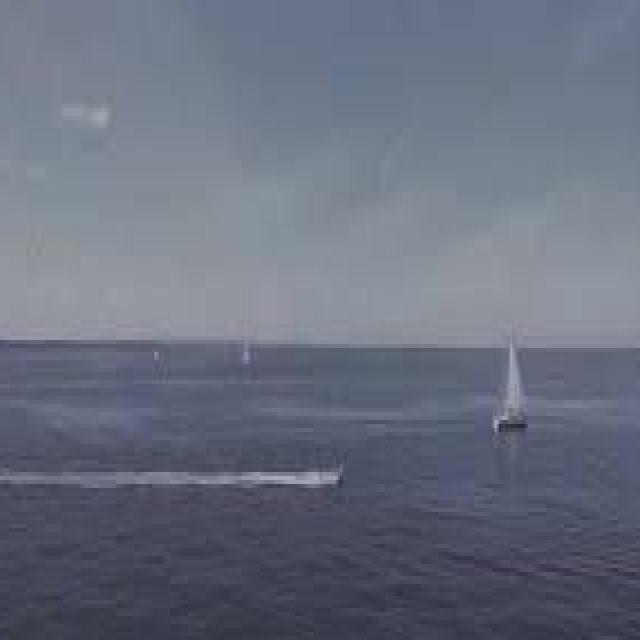sailboat: (493, 334, 537, 444)
